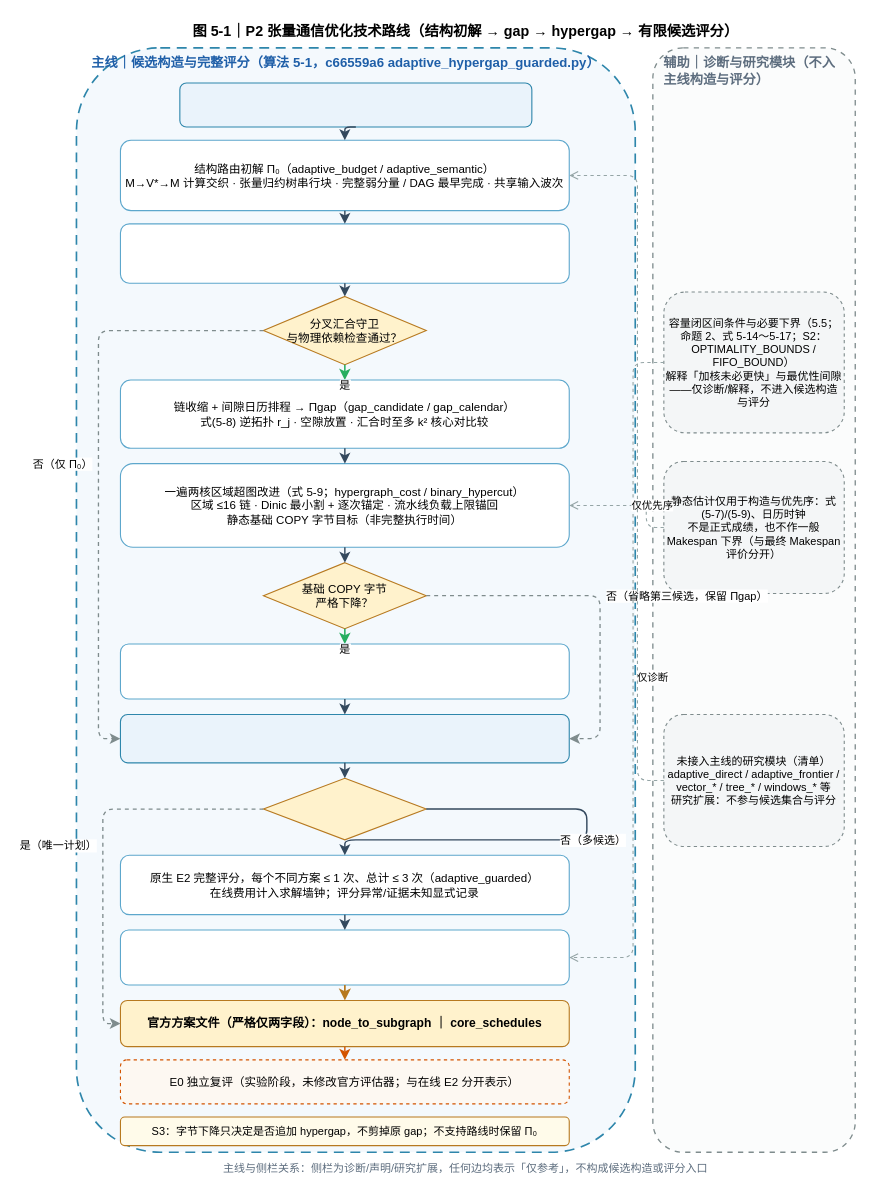
This 875x1195 diagram has some shape labels left out. The shapes that lost their labels are listed below. From the top down, each one's centre as x and y in pixels, then its label:
At [355,104]: "输入：原始图 G · 核数 k · 冻结配置 θ（P2）".
At [344,253]: "活跃核数选择（式 5-7） L̂(q)=max(⌈J/q⌉W, ⌈(qS+P)/B⌉, H)，取最少核的模型最优".
At [344,671]: "固定分核重排 → Πhypergap（gap_retime） 只改核内优先级，不改分核".
At [344,738]: "完整计划去重（式 5-10）：C = {Π₀, Πgap, Πhypergap}distinct，|C| ≤ 3".
At [344,808]: "去重后 |C| = 1？".
At [344,957]: "按 (Makespan, 额外 DDR 字节) 择优；平局保留先前计划 候选集合内比较性质，非全局最优性证明".
